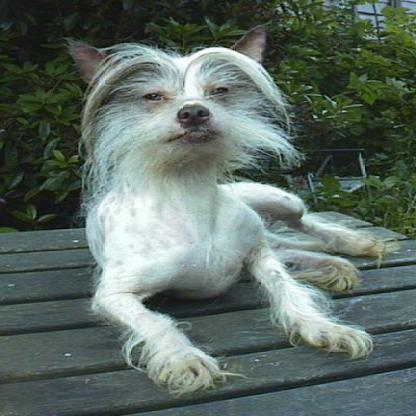dog: (75, 39, 397, 400)
